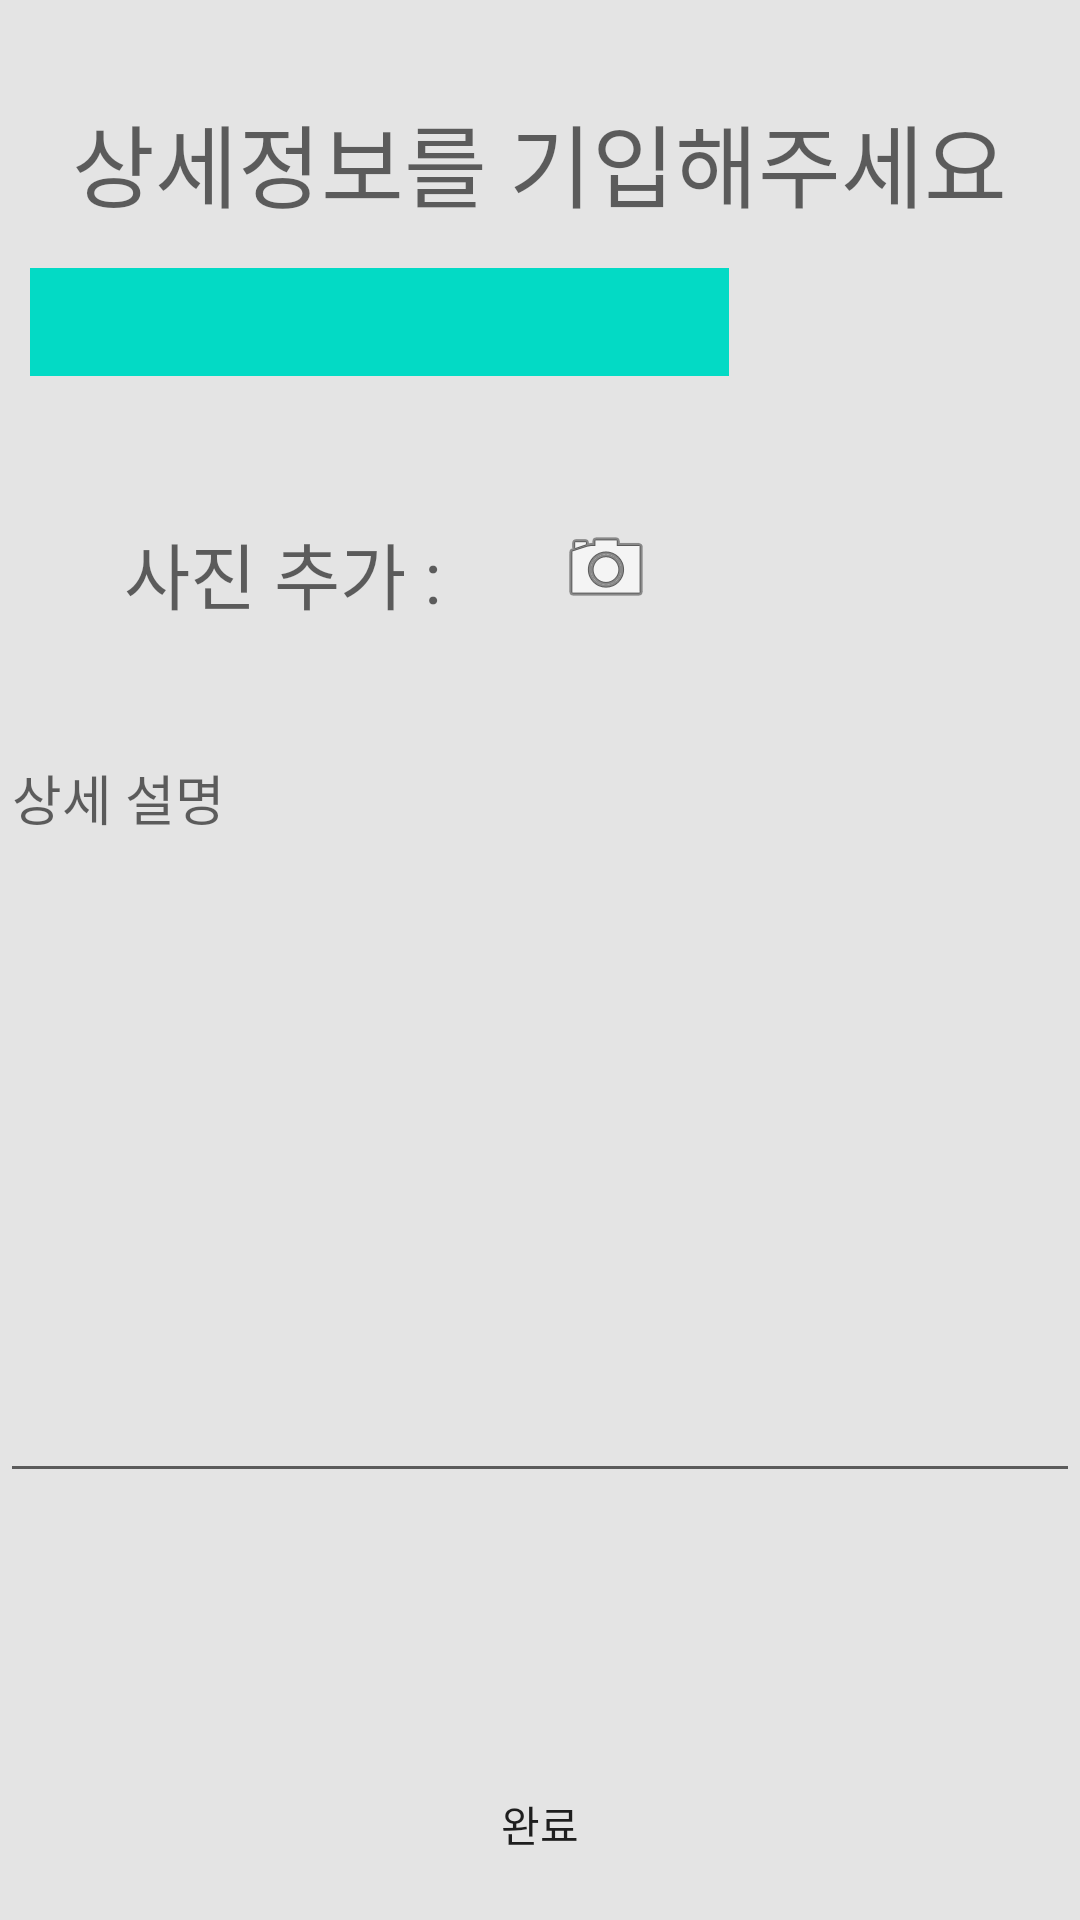

Screen size 1080*1920. Icon name, then its box in pixels as (x1, y1, x2, y2):
camera: (569, 537, 643, 596)
